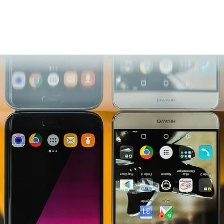phone: (108, 104, 223, 224), (111, 0, 221, 115), (0, 108, 108, 223), (0, 0, 108, 110)
